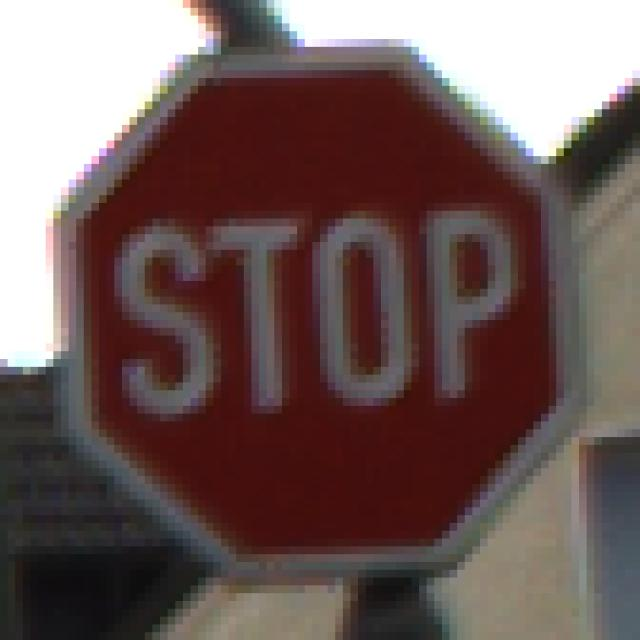STOP: (54, 56, 588, 586)
